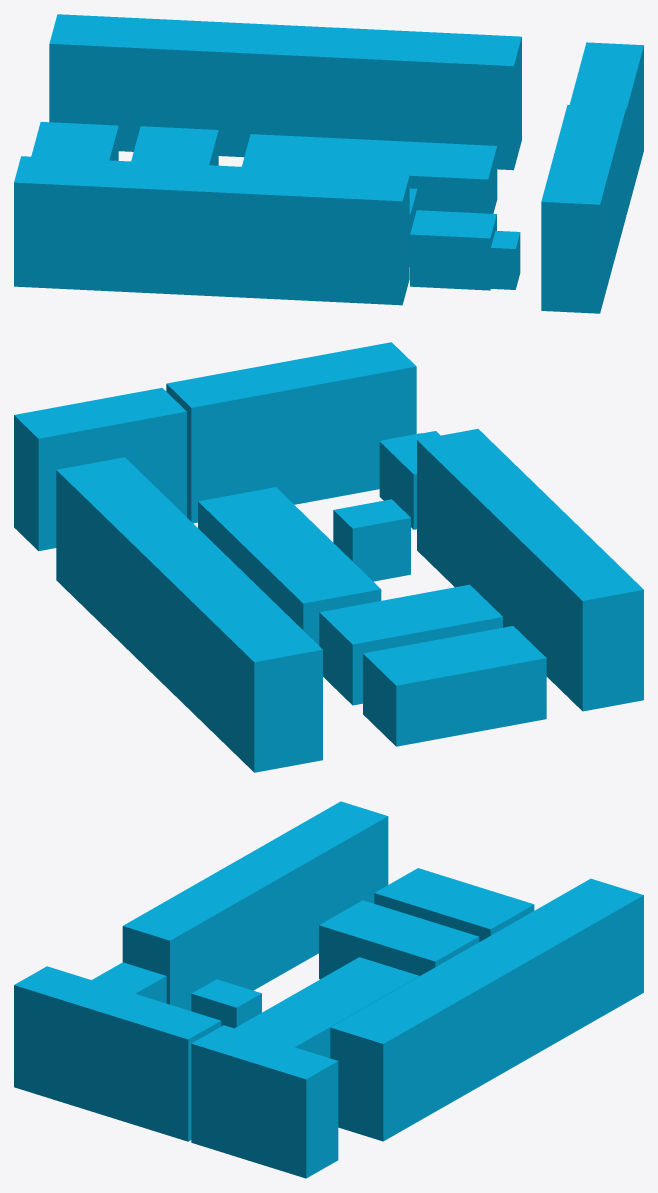
The model's file is Palma_URB.fbx.
3 renders of one model, top to bottom at view 1: azimuth 30°, elevation 25°; view 2: azimuth 150°, elevation 25°; view 3: azimuth 270°, elevation 25°, orthographic. The views are drawn at different scales.
Parts seen in each view (by area): view 1: Cube__49_, Cube__50_, Cube__47_, Cube__49__1, Cube__51_, Cube__48_, Cube__52__1, Cube__51__1, Cube__52_; view 2: Cube__49_, Cube__50_, Cube__47_, Cube__51__1, Cube__48_, Cube__49__1, Cube__52__1, Cube__53_, Cube__51_; view 3: Cube__49_, Cube__50_, Cube__47_, Cube__48_, Cube__52__1, Cube__49__1, Cube__51__1, Cube__53_, Cube__51_.
Part boxes in pixels (x1=…): Cube__49_: x1=49, y1=14, x2=521, y2=170; Cube__50_: x1=14, y1=156, x2=409, y2=305; Cube__47_: x1=541, y1=104, x2=626, y2=313; Cube__49__1: x1=242, y1=134, x2=497, y2=213; Cube__51_: x1=410, y1=210, x2=496, y2=290; Cube__48_: x1=569, y1=42, x2=643, y2=214; Cube__52__1: x1=131, y1=126, x2=218, y2=165; Cube__51__1: x1=31, y1=122, x2=118, y2=160; Cube__52_: x1=491, y1=230, x2=520, y2=289; Cube__49_: x1=56, y1=457, x2=322, y2=772; Cube__50_: x1=417, y1=429, x2=643, y2=711; Cube__47_: x1=166, y1=342, x2=416, y2=523; Cube__51__1: x1=363, y1=626, x2=546, y2=746; Cube__48_: x1=14, y1=388, x2=186, y2=551; Cube__49__1: x1=198, y1=487, x2=381, y2=645; Cube__52__1: x1=319, y1=584, x2=502, y2=705; Cube__53_: x1=333, y1=499, x2=410, y2=581; Cube__51_: x1=379, y1=431, x2=440, y2=529; Cube__49_: x1=330, y1=878, x2=643, y2=1141; Cube__50_: x1=122, y1=801, x2=388, y2=1010; Cube__47_: x1=14, y1=966, x2=221, y2=1141; Cube__48_: x1=191, y1=1025, x2=338, y2=1178; Cube__52__1: x1=319, y1=900, x2=479, y2=979; Cube__49__1: x1=234, y1=957, x2=419, y2=1058; Cube__51__1: x1=374, y1=868, x2=534, y2=941; Cube__53_: x1=191, y1=979, x2=261, y2=1028; Cube__51_: x1=92, y1=962, x2=166, y2=1003.
Size of the model in its own units: 17296 by 2947 by 16458.
